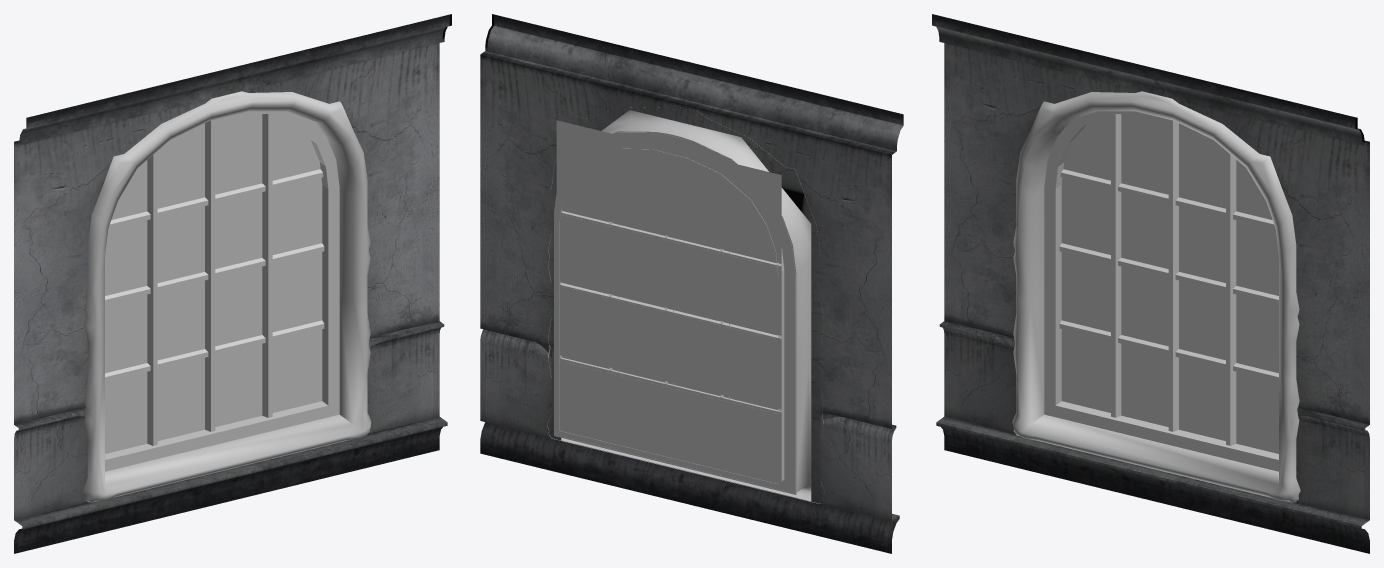
The model's file is window_large_blue_blue.dae.
3 renders of one model, left to right at view 1: azimuth 30°, elevation 25°; view 2: azimuth 150°, elevation 25°; view 3: azimuth 330°, elevation 25°, orthographic. The views are drawn at different scales.
Parts seen in each view (by area): view 1: window_large, window02_large_frame3, window_large_glass_blue; view 2: window_large, window_large_glass_blue, window02_large_frame3; view 3: window_large, window02_large_frame3, window_large_glass_blue.
Part boxes in pixels (<box>): window_large: <box>14,14,451,553</box>; window02_large_frame3: <box>83,91,371,502</box>; window_large_glass_blue: <box>105,114,322,453</box>; window_large: <box>480,14,903,553</box>; window_large_glass_blue: <box>556,120,781,489</box>; window02_large_frame3: <box>547,107,823,503</box>; window_large: <box>932,14,1369,553</box>; window02_large_frame3: <box>1012,91,1300,502</box>; window_large_glass_blue: <box>1061,114,1278,453</box>.
Bounding box in the file's own units: 4 × 4 × 0.488.
